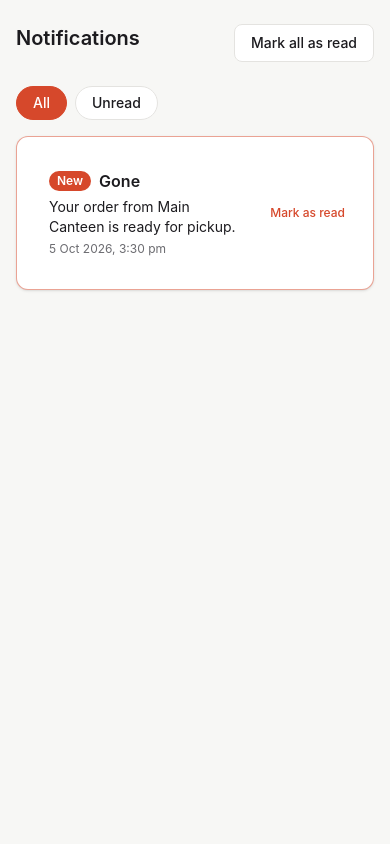
it: NotificationsView — mark one read › a 404 says the notification is gone and re-reads the list
expect the text "Gone" is shown: met, box left=99, top=169, right=140, bottom=193
Click the button named "Mark \"Gone\" as read": (308, 213) left=258, top=197, right=357, bottom=229
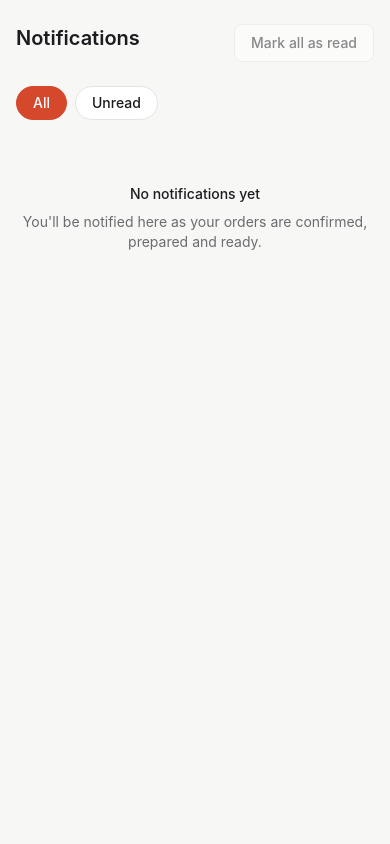
expect the text "No notifications yet" is shown: met, box left=130, top=184, right=260, bottom=204
